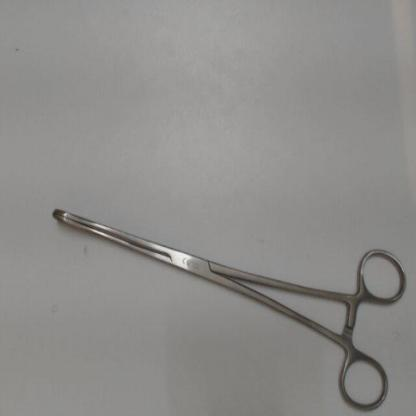Sponge Forceps: (44, 199, 412, 415)
